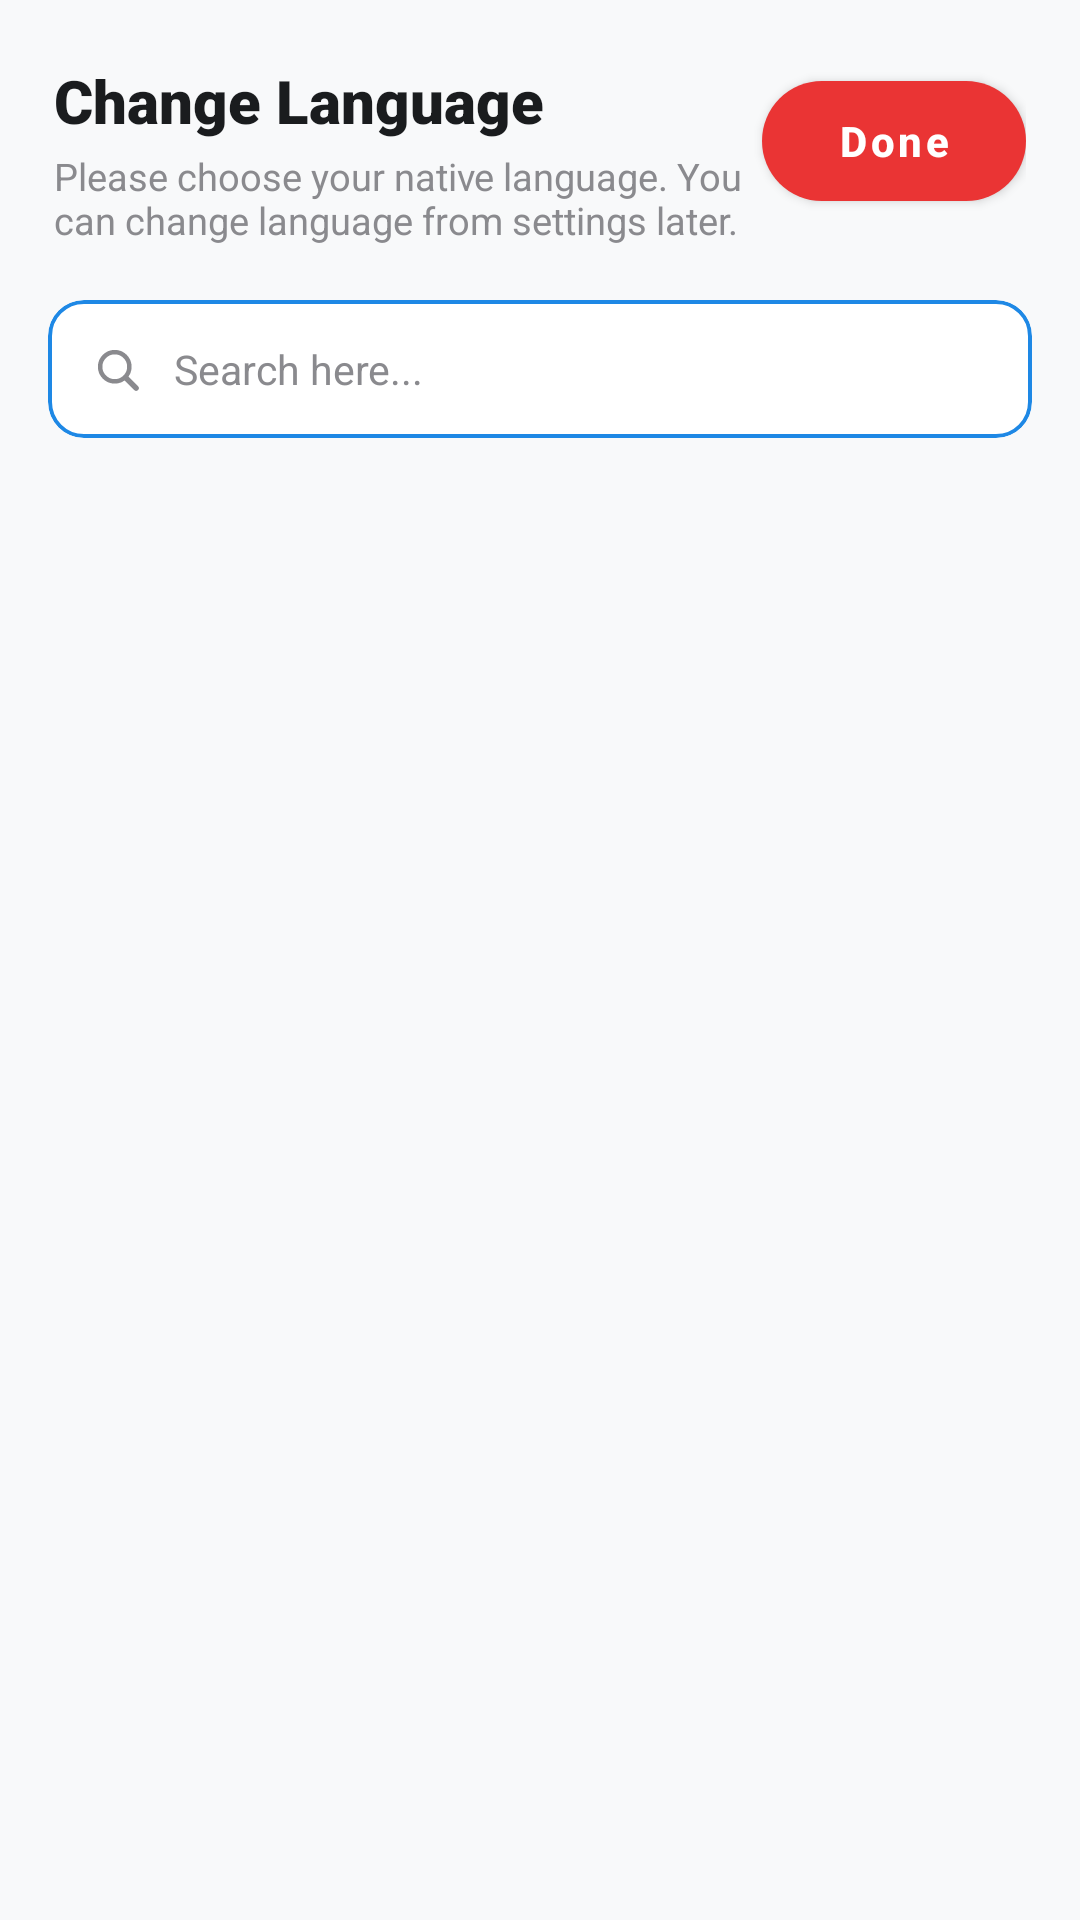

Screen size 1080*1920. Icon name, then its box in pixels as (left=x1, top=y1, right=x2, bottom=y2):
top search: (left=98, top=350, right=139, bottom=391)
